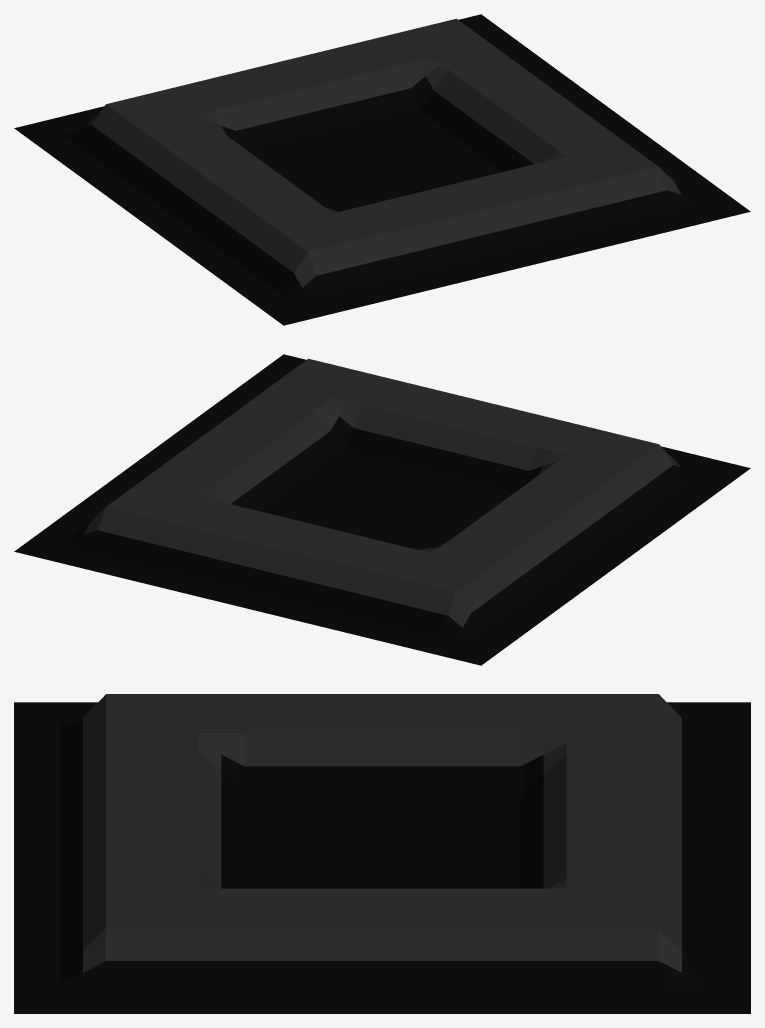
The model's file is terrain.obj.
The picture shows the model from 3 angles, top to bottom: view 1: azimuth 30°, elevation 25°; view 2: azimuth 150°, elevation 25°; view 3: azimuth 270°, elevation 25°; orthographic projection. The views are drawn at different scales.
Parts seen in each view (by area): view 1: heightmap_; view 2: heightmap_; view 3: heightmap_.
Part boxes in pixels (x1=…): heightmap_: x1=14, y1=14, x2=750, y2=325; heightmap_: x1=14, y1=354, x2=750, y2=665; heightmap_: x1=14, y1=694, x2=750, y2=1013.
Bounding box in the file's own units: 2 × 0.1412 × 2.
Materials: 1 (1 with a texture image).
